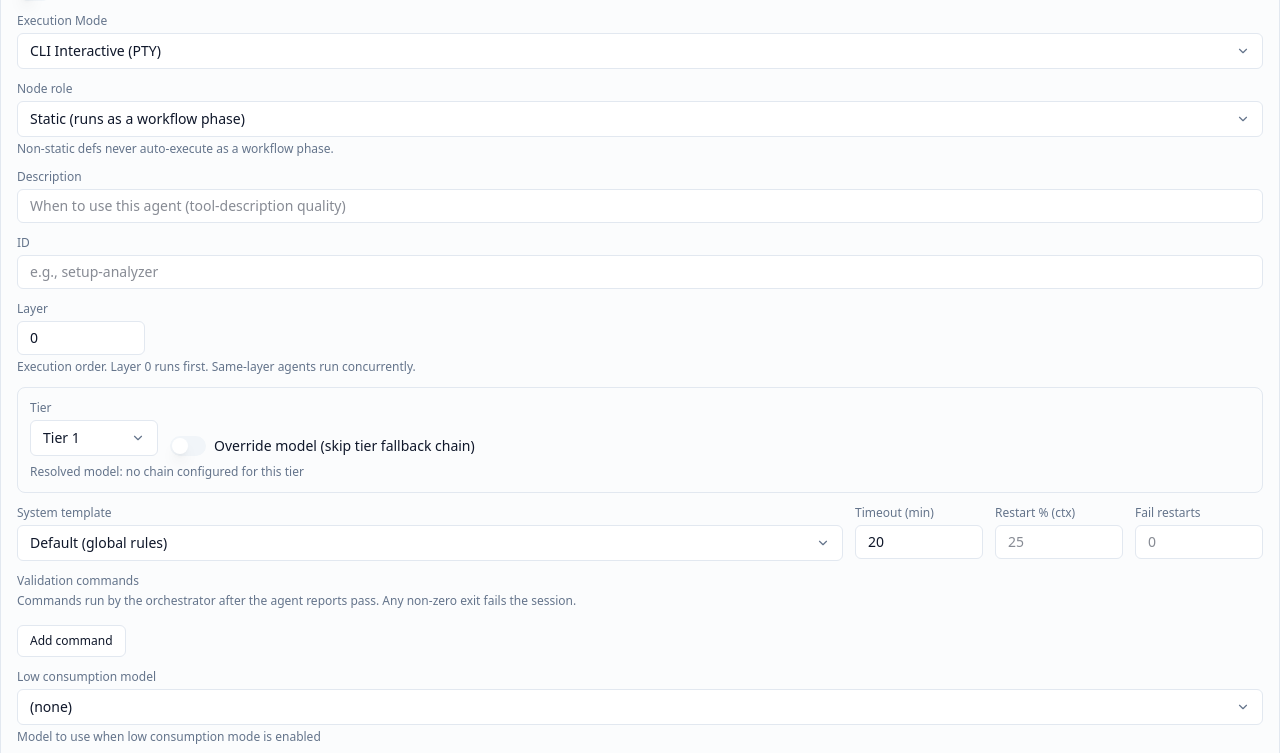
it: AgentDefForm — execution mode › switching to API mode › shows API max fields after switching to api
Click the button "CLI Interactive (PTY)" at (95, 50), box [17, 33, 1263, 69]
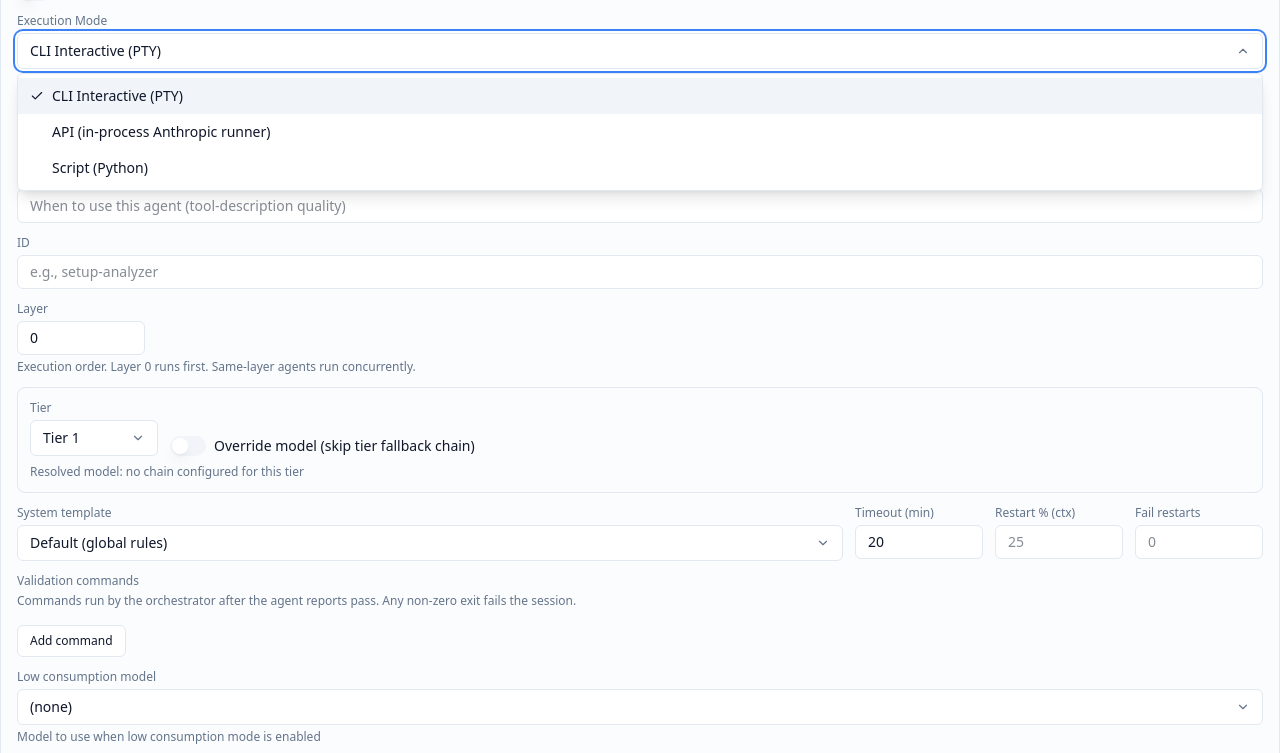
Click the text "API (in-process Anthropic runner)" at (161, 132), box [52, 122, 270, 142]
(page scrolled)
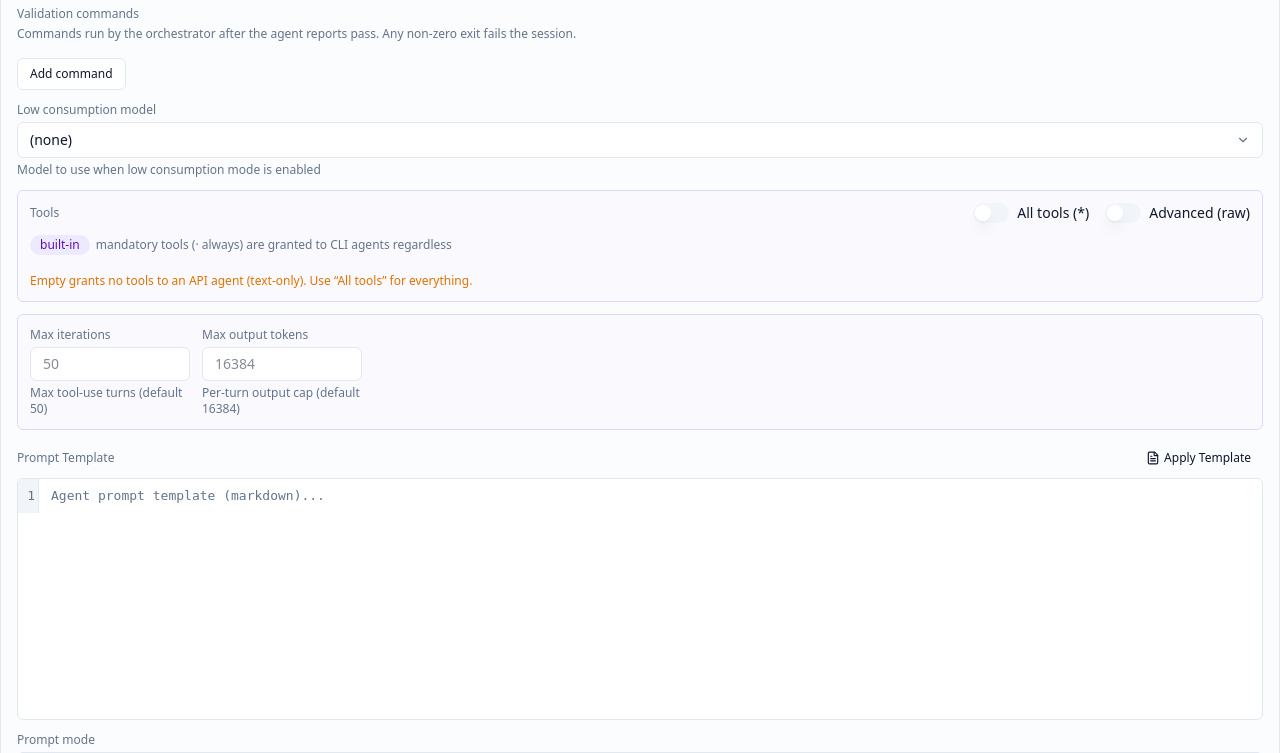
Check: the number field with placeholder "50" is shown, box [30, 347, 190, 381]
Check: the number field with placeholder "16384" is shown, box [202, 347, 362, 381]
